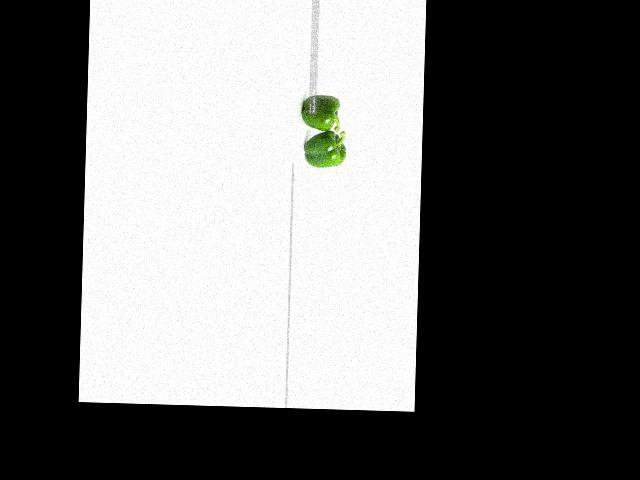bell_pepper: (297, 130, 349, 168)
